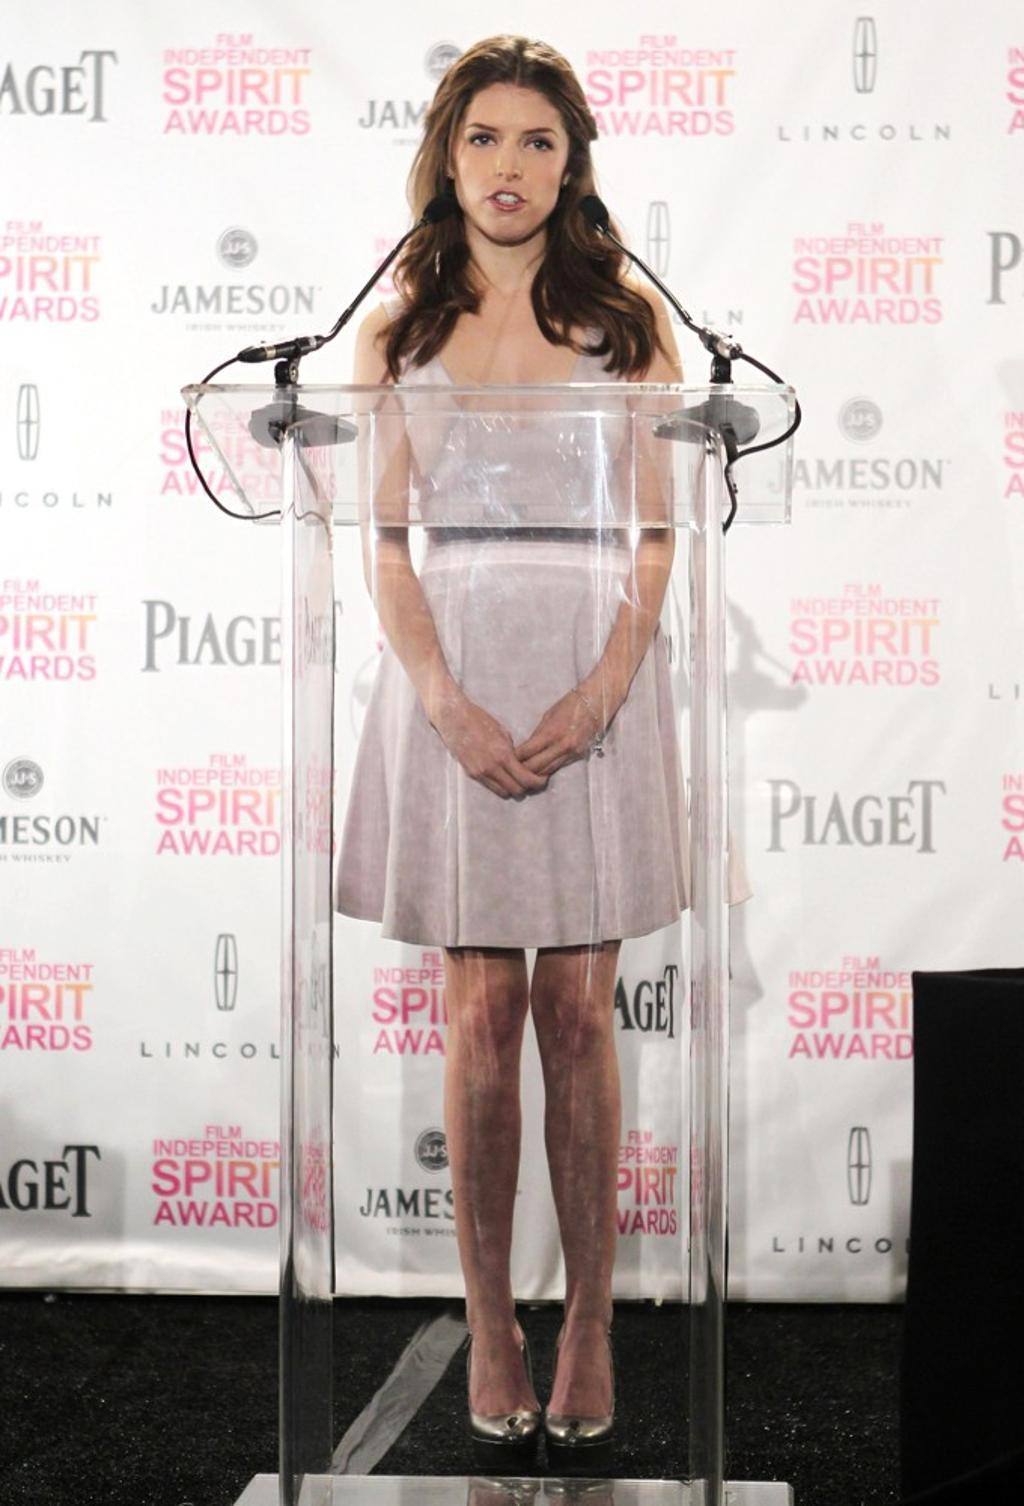face: (457, 92, 560, 239)
